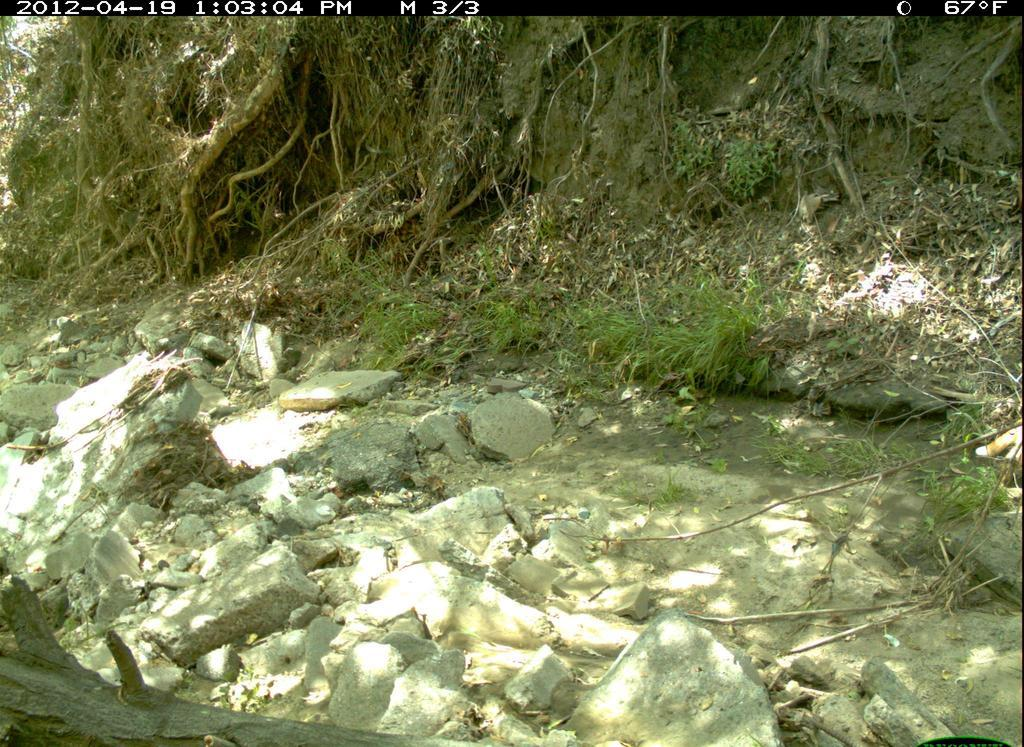cat: (966, 406, 1023, 501)
